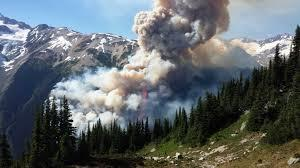yanwu: (47, 1, 260, 140)
